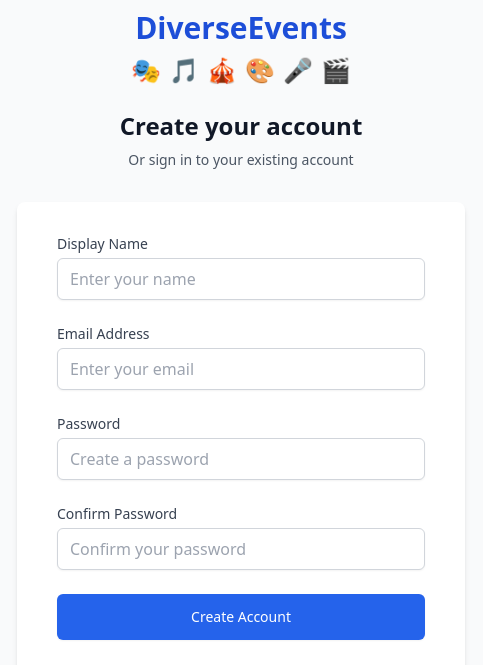
Scenario: Signup page › shows error when email signup fails
The width and height of the screenshot is (483, 665).
Type "Bob" into the field labelled "Display Name". click: (241, 279)
box: [57,258,425,300]
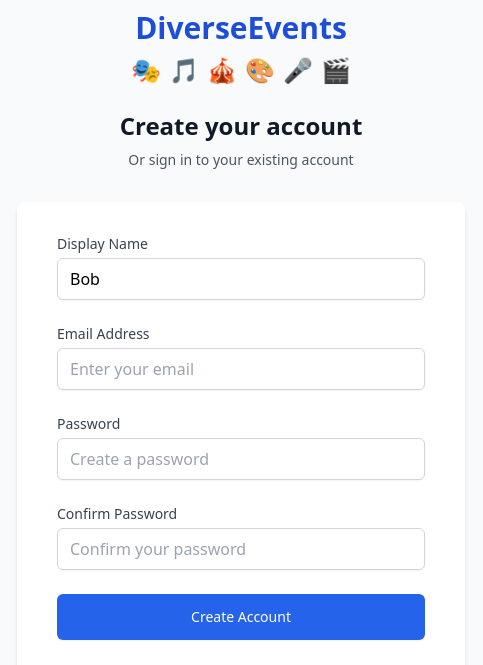
Type "x@y.com" into the field labelled "Email Address". click: (241, 369)
box: [57,348,425,390]
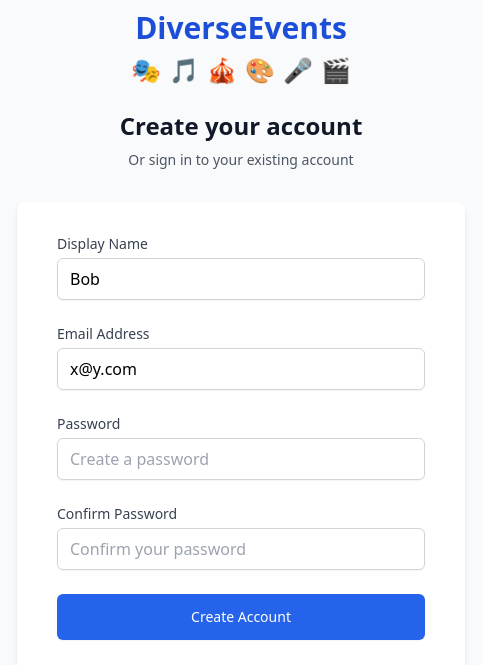
Type "123" into the password field labelled "Password". click: (241, 459)
box: [57,438,425,480]
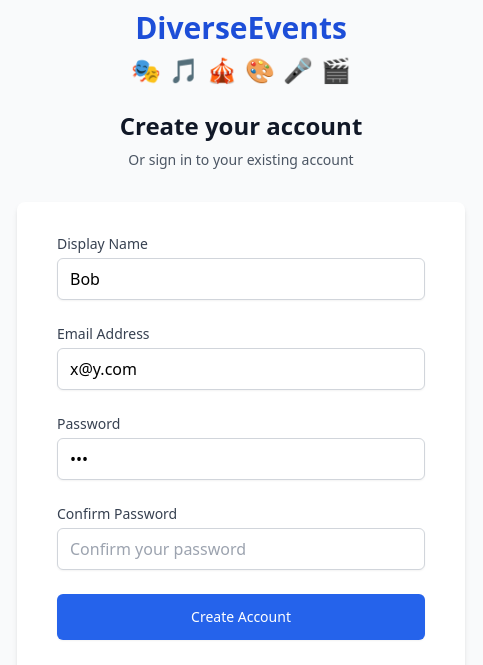
Type "123" into the password field labelled "Confirm Password". click: (241, 549)
box: [57,528,425,570]
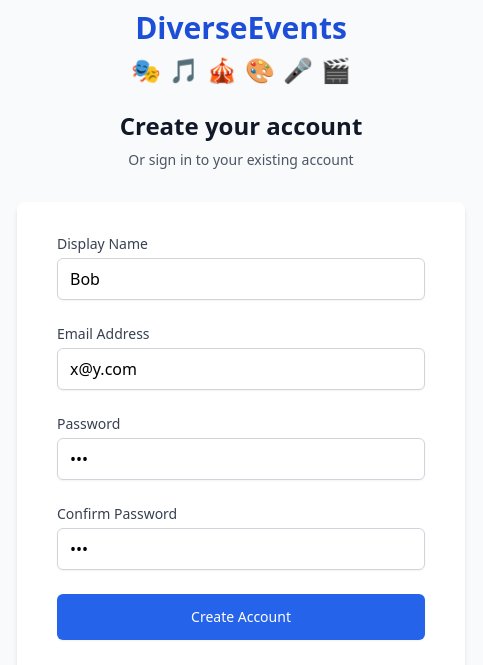
Click the button "Create Account". click: (241, 617)
box: [57,594,425,640]
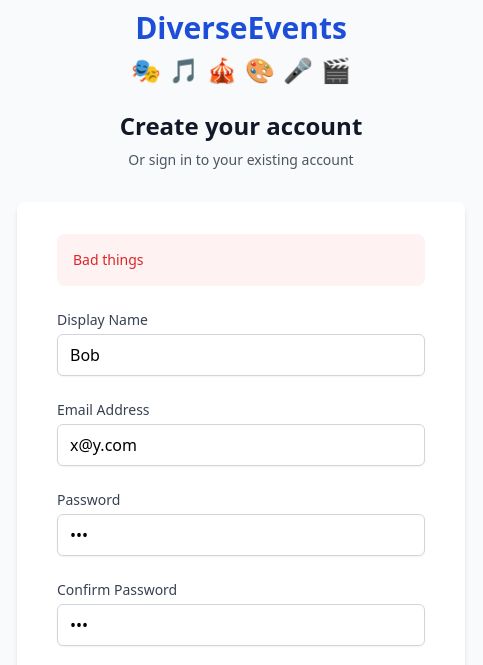
Now the text "Bad things" is shown, box [73,250,144,269]
